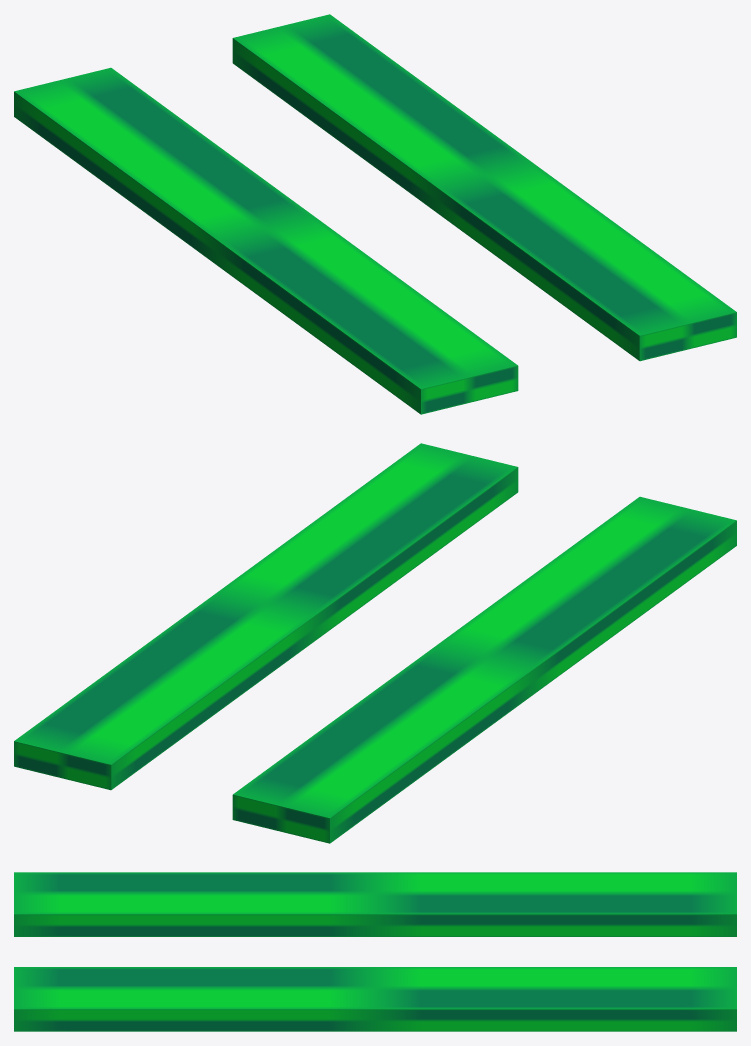
File: forks.obj
3 renders of one model, top to bottom at view 1: azimuth 30°, elevation 25°; view 2: azimuth 150°, elevation 25°; view 3: azimuth 270°, elevation 25°, orthographic. The views are drawn at different scales.
Visible parts, largest first — view 1: forks; view 2: forks; view 3: forks.
Part boxes in pixels (left/top/right/bottom): forks: left=14, top=14, right=736, bottom=414; forks: left=14, top=443, right=736, bottom=843; forks: left=14, top=872, right=736, bottom=1031.
Bounding box in the file's own units: 3.25 × 0.25 × 7.25.
Materials: 1 (1 with a texture image).
